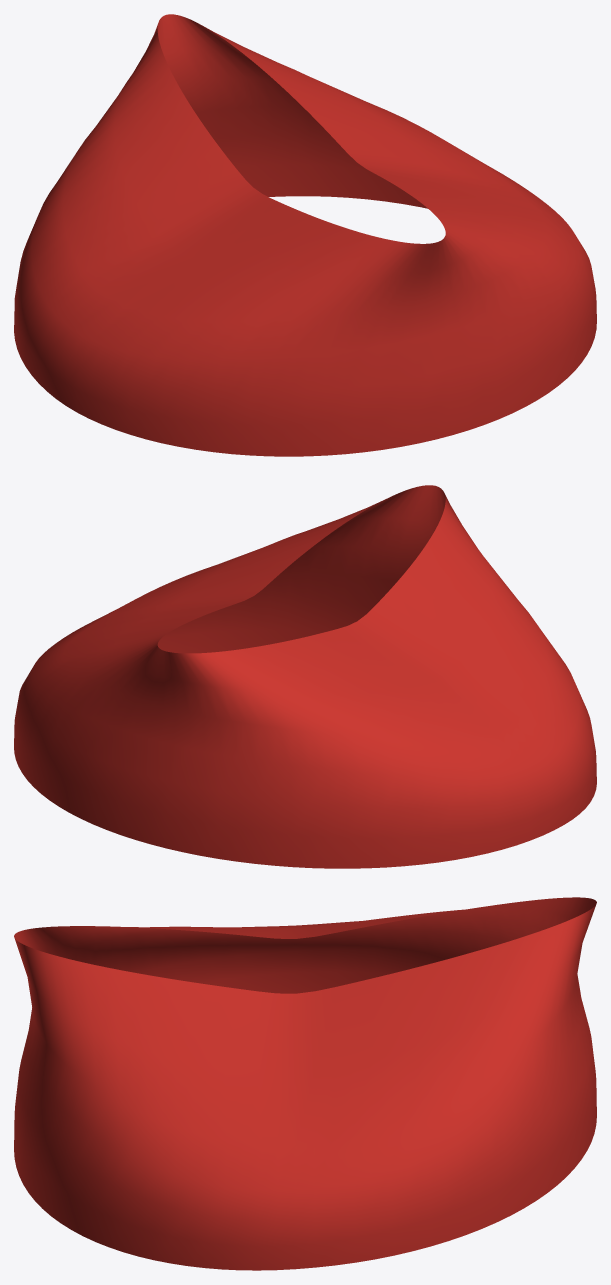
The model's file is hw_sajkaca.glb.
3 views of the same model, one above another, from view 1: azimuth 30°, elevation 25°; view 2: azimuth 150°, elevation 25°; view 3: azimuth 270°, elevation 25° (orthographic). The views are drawn at different scales.
Parts seen in each view (by area): view 1: hw_sajkaca; view 2: hw_sajkaca; view 3: hw_sajkaca.
Boxes of the visible parts, x1,y1,x2,y2 form: hw_sajkaca: (14, 14, 596, 456); hw_sajkaca: (14, 485, 596, 868); hw_sajkaca: (14, 897, 596, 1270).
Size of the model in its own units: 0.8235 by 0.3471 by 0.7416.
